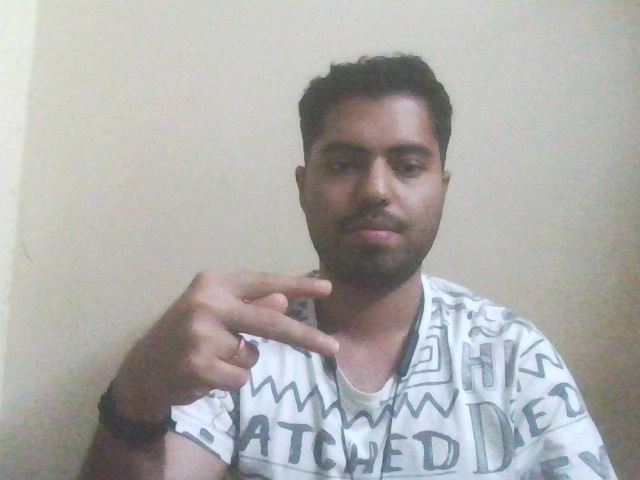S: (101, 249, 345, 421)
